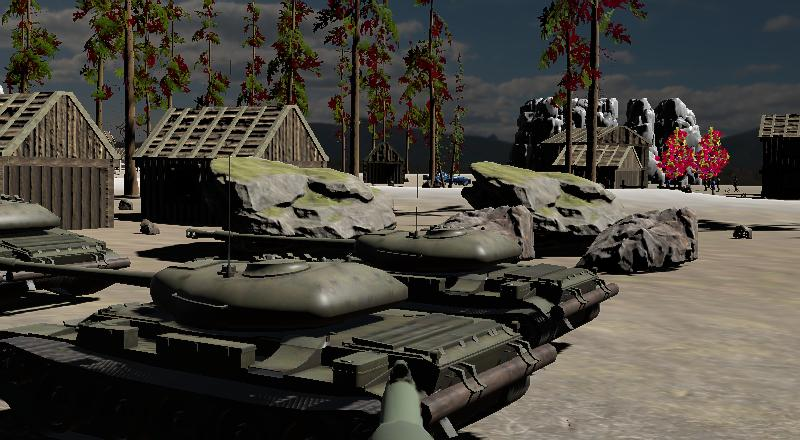House: (137, 102, 331, 220), (1, 91, 121, 226), (758, 113, 800, 199), (559, 145, 643, 187)
Tank: (0, 249, 551, 440), (207, 214, 603, 350), (0, 191, 130, 303)
